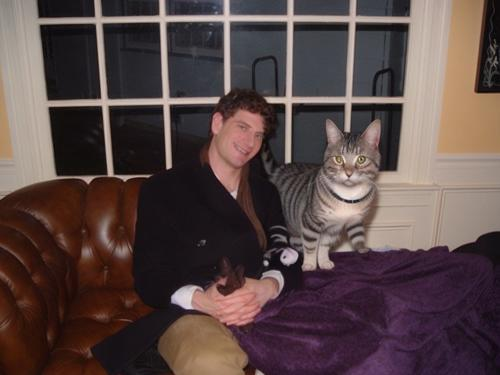cat: (261, 112, 382, 268)
person: (95, 89, 301, 375)
person/hand: (201, 277, 260, 328), (216, 277, 262, 326)
person/head: (211, 90, 272, 168)
sofa: (1, 178, 145, 375)
